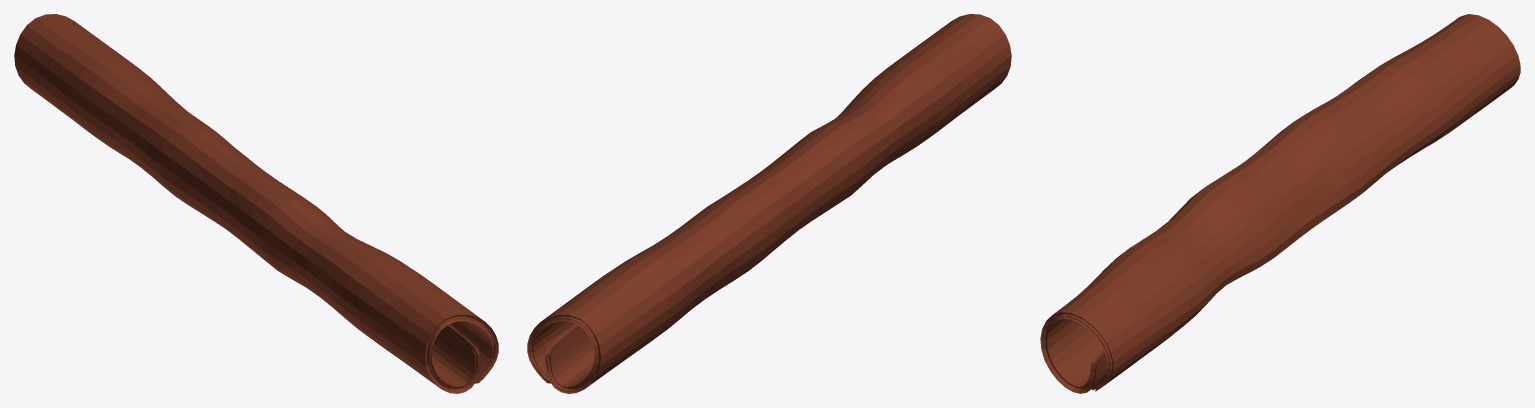
File: kayu manis.fbx
The picture shows the model from 3 angles, left to right: view 1: azimuth 30°, elevation 25°; view 2: azimuth 150°, elevation 25°; view 3: azimuth 330°, elevation 25°; orthographic projection.
Visible parts, largest first — view 1: Kayu manis; view 2: Kayu manis; view 3: Kayu manis.
Part boxes in pixels (<box>): Kayu manis: <box>14,14,498,393</box>; Kayu manis: <box>527,14,1011,393</box>; Kayu manis: <box>1040,14,1520,393</box>.
Bounding box in the file's own units: 1.15 × 1.14 × 9.87.
